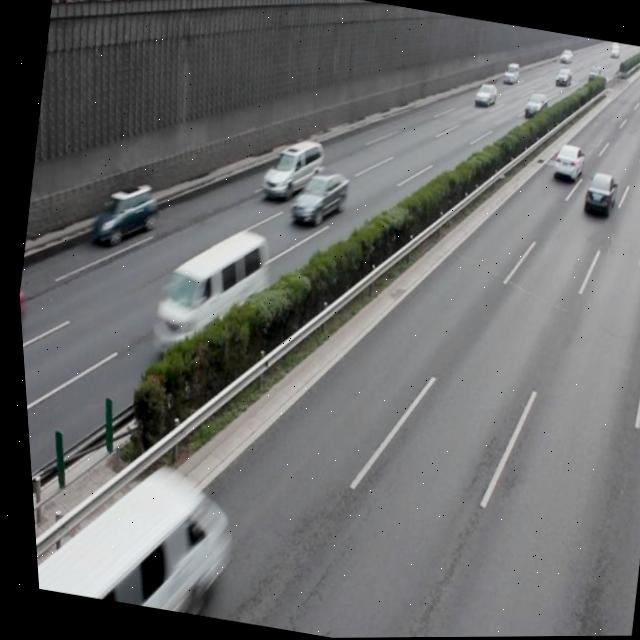car: (82, 175, 158, 251), (283, 166, 348, 230), (576, 170, 615, 219), (545, 141, 584, 185)
truck: (27, 453, 230, 619), (137, 216, 274, 368), (254, 133, 326, 206)
